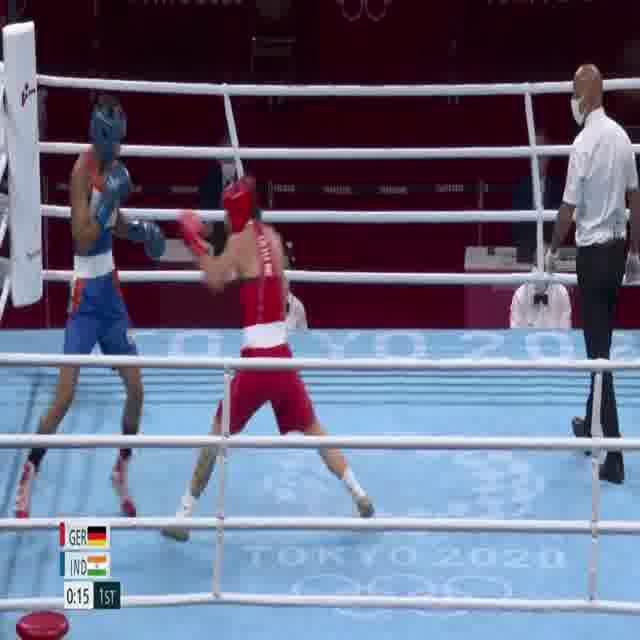blue-player: (15, 92, 166, 524)
red-player: (163, 170, 376, 544)
referee: (537, 57, 640, 489)
